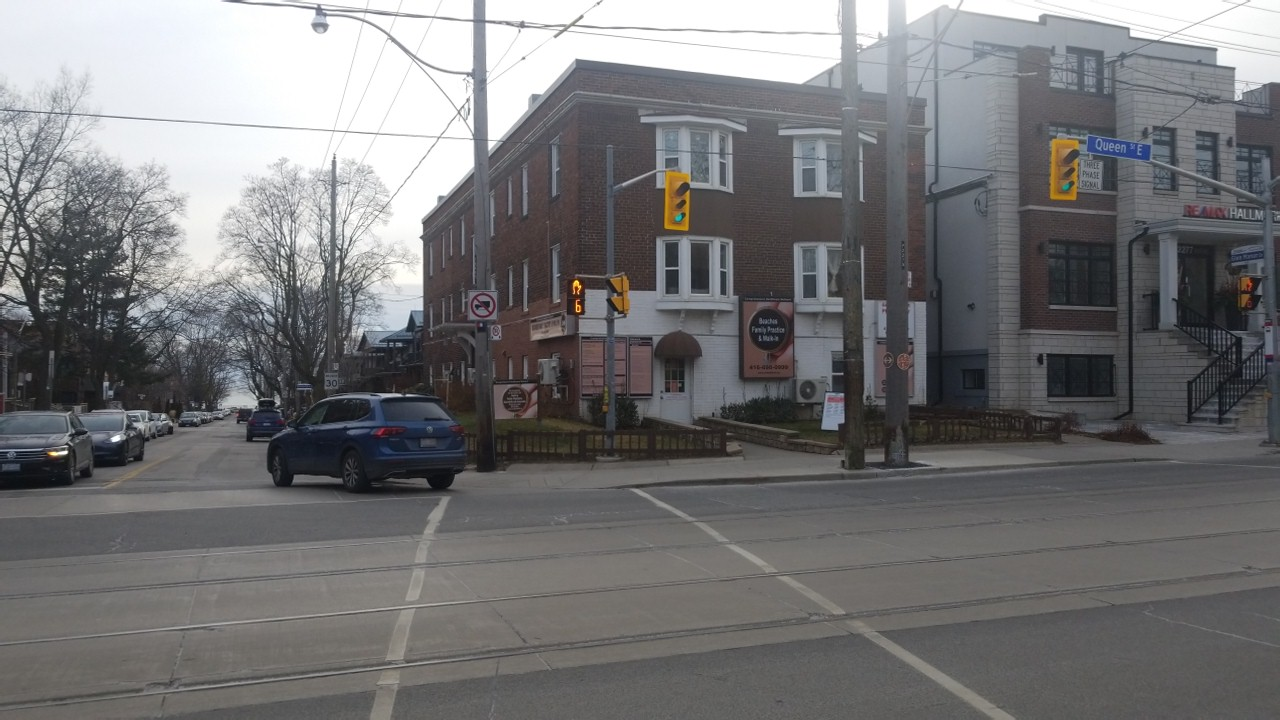light: (566, 276, 585, 315)
